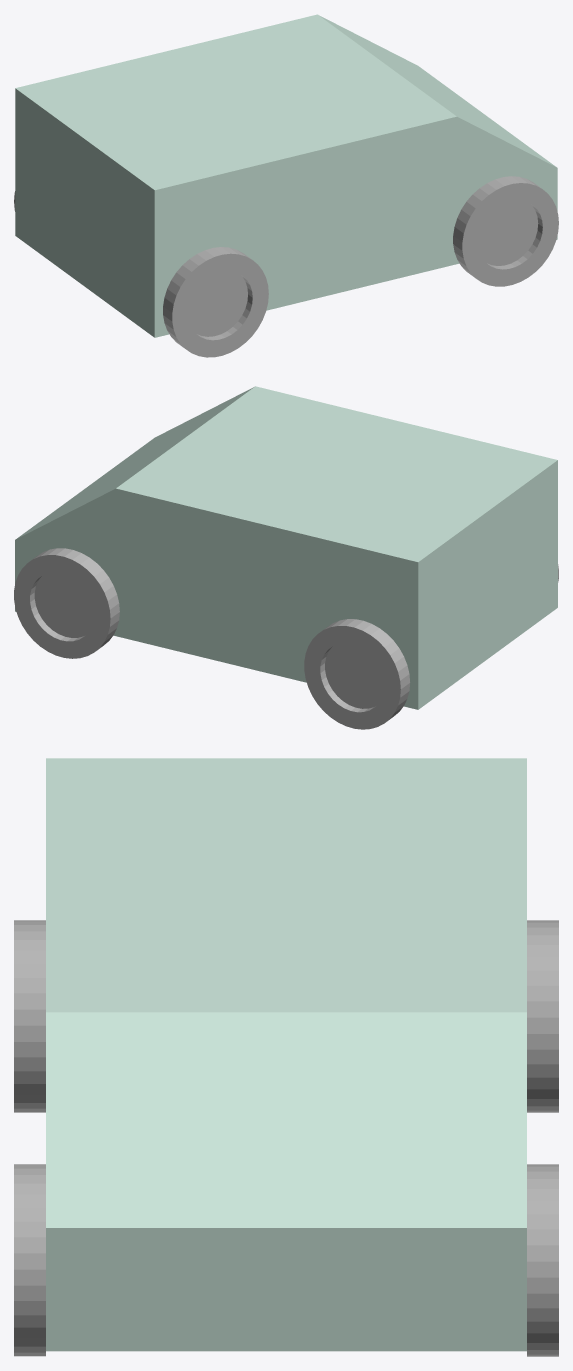
The model's file is car.gltf.
3 renders of one model, top to bottom at view 1: azimuth 30°, elevation 25°; view 2: azimuth 150°, elevation 25°; view 3: azimuth 270°, elevation 25°, orthographic. The views are drawn at different scales.
Parts seen in each view (by area): view 1: b_car_body_001_, b_car_wheel_001_001, b_car_wheel_001_002; view 2: b_car_body_001_, b_car_wheel_001_003, b_car_wheel_001_; view 3: b_car_body_001_, b_car_wheel_001_002, b_car_wheel_001_003, b_car_wheel_001_, b_car_wheel_001_001.
Boxes of the visible parts, <box> form: b_car_body_001_: <box>15,14,557,337</box>; b_car_wheel_001_001: <box>163,247,268,357</box>; b_car_wheel_001_002: <box>453,176,558,286</box>; b_car_body_001_: <box>15,386,557,709</box>; b_car_wheel_001_003: <box>14,548,119,658</box>; b_car_wheel_001_: <box>304,619,410,729</box>; b_car_body_001_: <box>46,758,526,1351</box>; b_car_wheel_001_002: <box>14,1164,45,1356</box>; b_car_wheel_001_003: <box>527,1164,558,1356</box>; b_car_wheel_001_: <box>527,920,558,1112</box>; b_car_wheel_001_001: <box>14,920,45,1112</box>.
Bounding box in the file's own units: 100 × 40.99 × 68.
